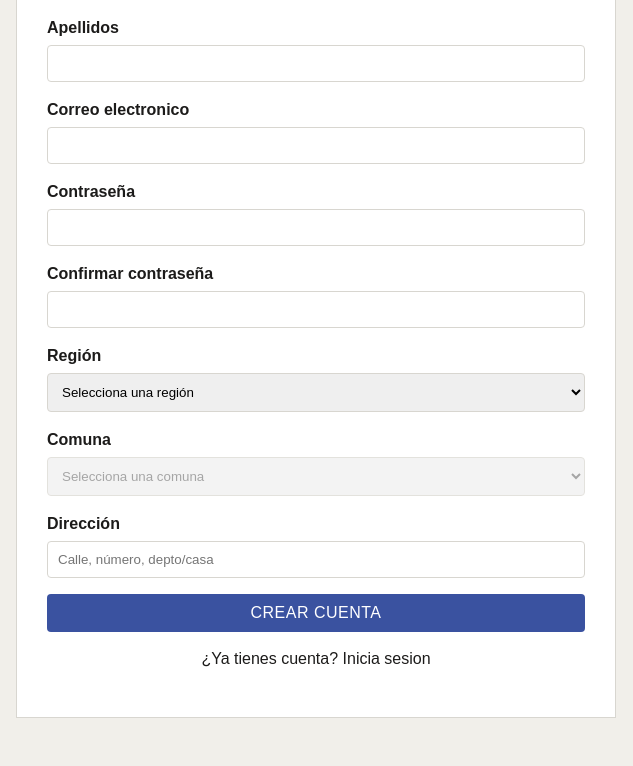
Test case: Registro › valida todos los campos obligatorios al enviar vacio
The image size is (633, 766).
(page scrolled)
Click the button "Crear cuenta".
click(316, 613)  # box [47,594,585,632]
(page scrolled)
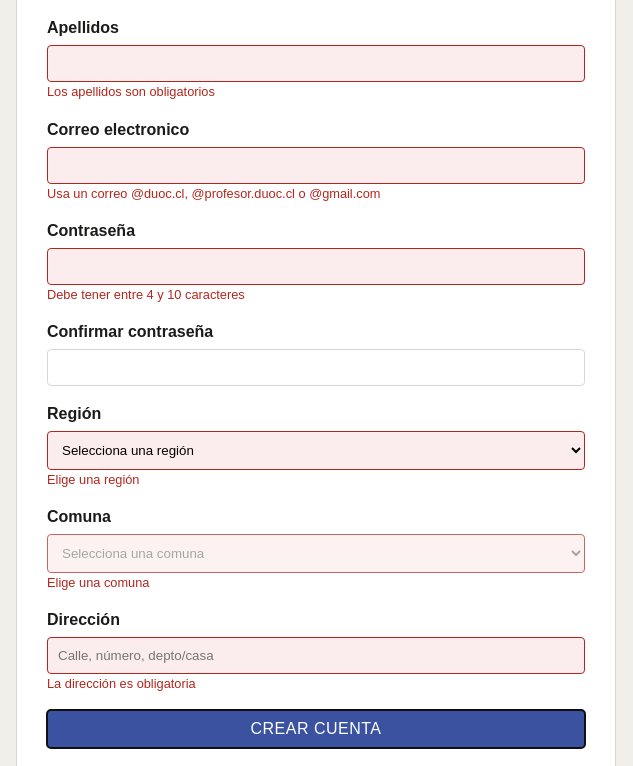
expect the text "Los apellidos son obligatorios" is shown: met, box [47,84,215,99]
expect the text "Usa un correo @duoc.cl, @profesor.duoc.cl o @gmail.com" is shown: met, box [47,186,380,201]
expect the text "Debe tener entre 4 y 10 caracteres" is shown: met, box [47,287,245,302]
